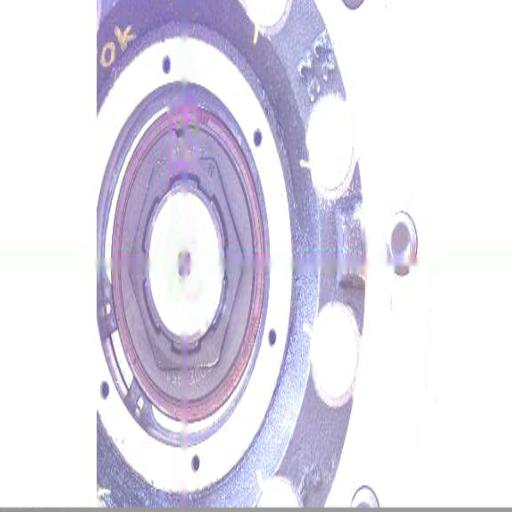center: (176, 248, 194, 284)
notch: (172, 124, 184, 144)
